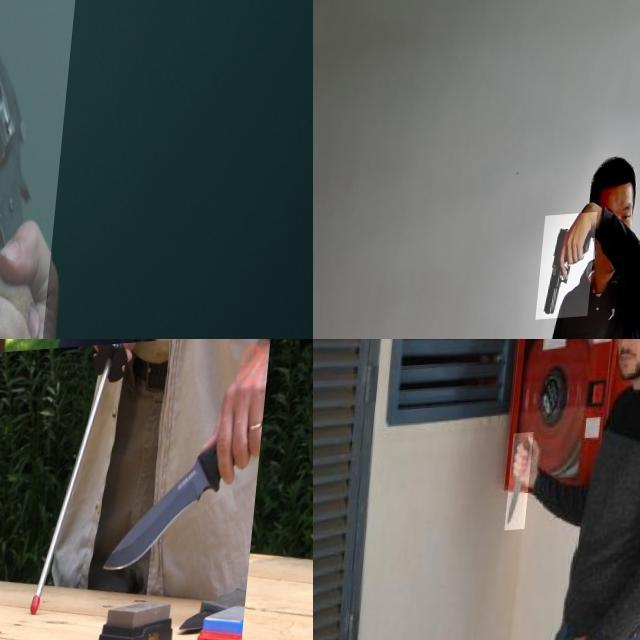-: (0, 339, 267, 463), (107, 410, 271, 582), (511, 437, 539, 535)
gun-knife-thesis - v11 Yolov5 augmented: (0, 0, 101, 339), (542, 218, 602, 324)
